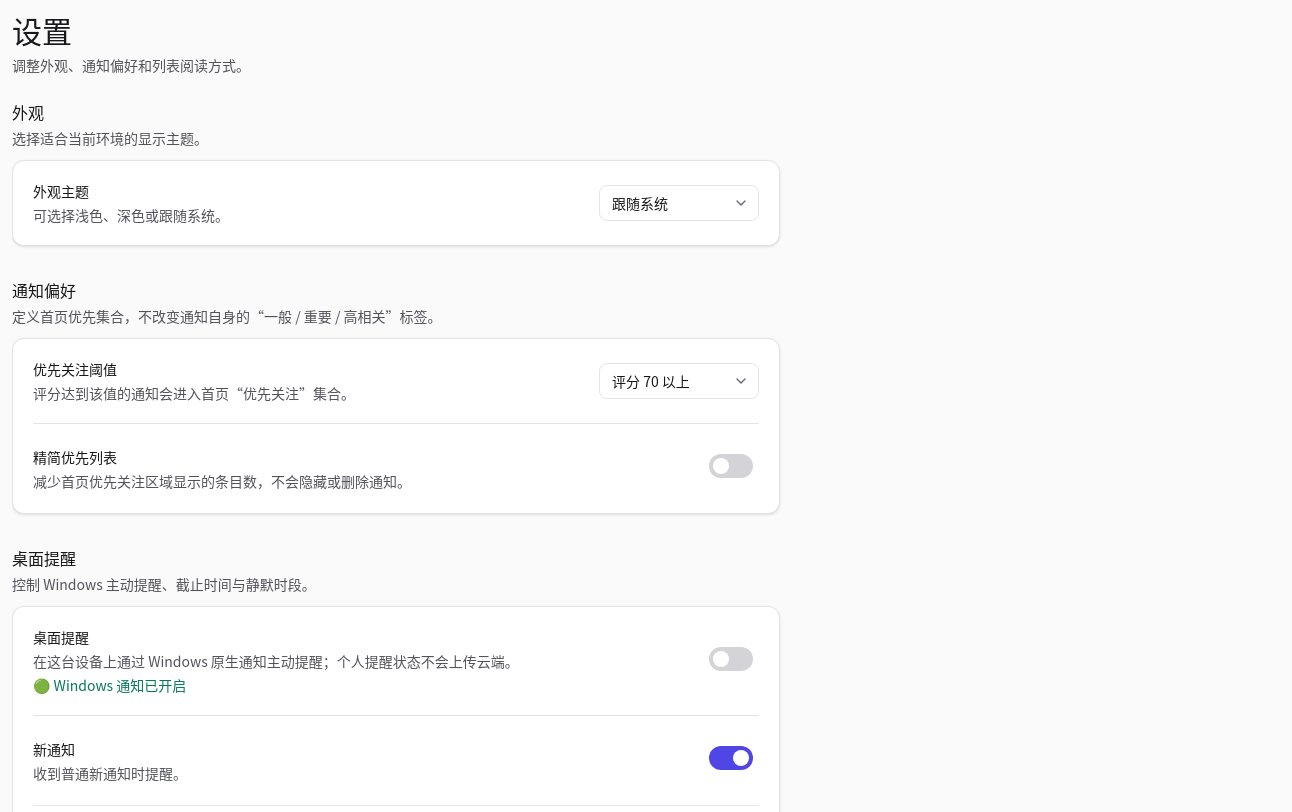
Test: SettingsPage › enables desktop notifications and sends a test notification when permission is granted
Expected: the text "🟢 Windows 通知已开启" is shown, x1=33 y1=675 x2=186 y2=695
Click the switch named "桌面提醒" in the row of "在这台设备上通过 Windows 原生通知主动提醒；个人提醒状态不会上传云端。" at (731, 658), box x1=703 y1=636 x2=759 y2=680
(page scrolled)
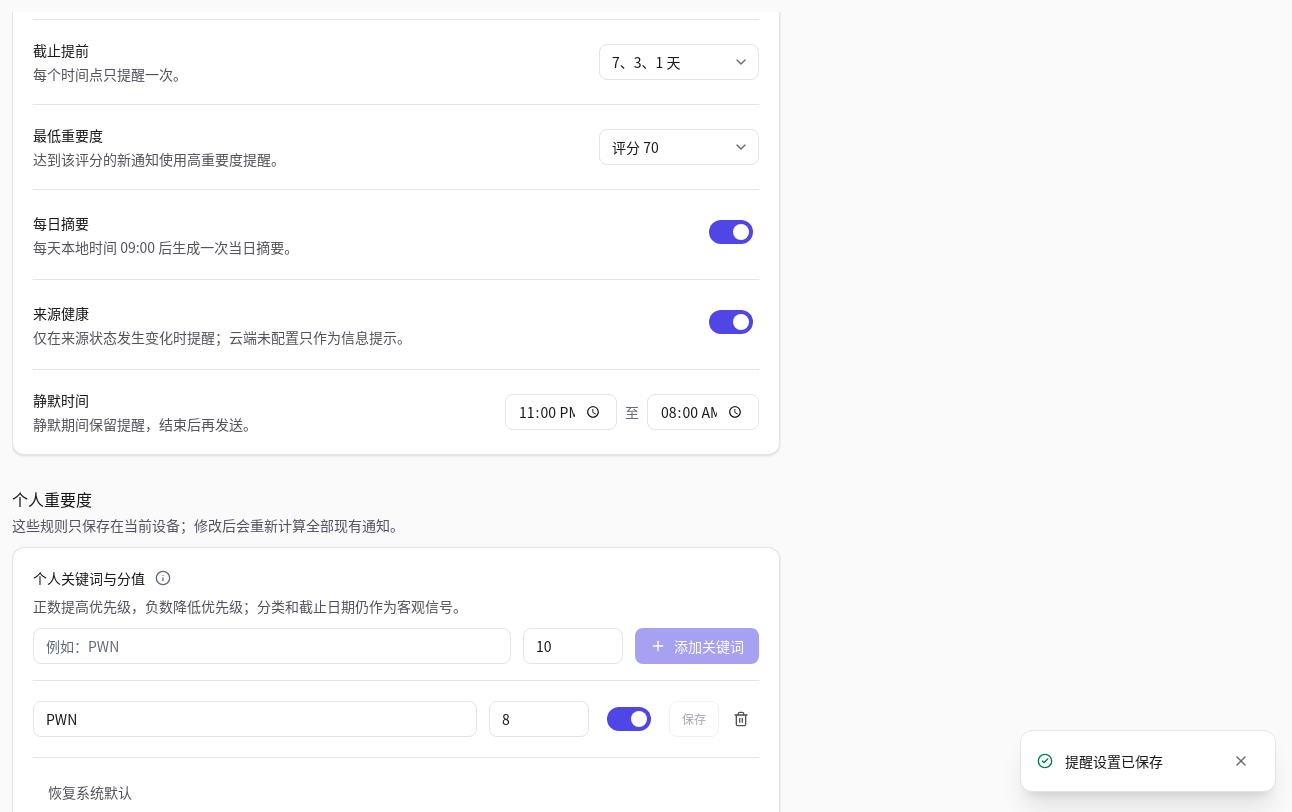
Expected: the dropdown labelled "截止提前" shows "7、3、1 天", x1=599 y1=44 x2=759 y2=80
Expected: the time field named "静默开始" holds "23:00", x1=505 y1=394 x2=617 y2=430
